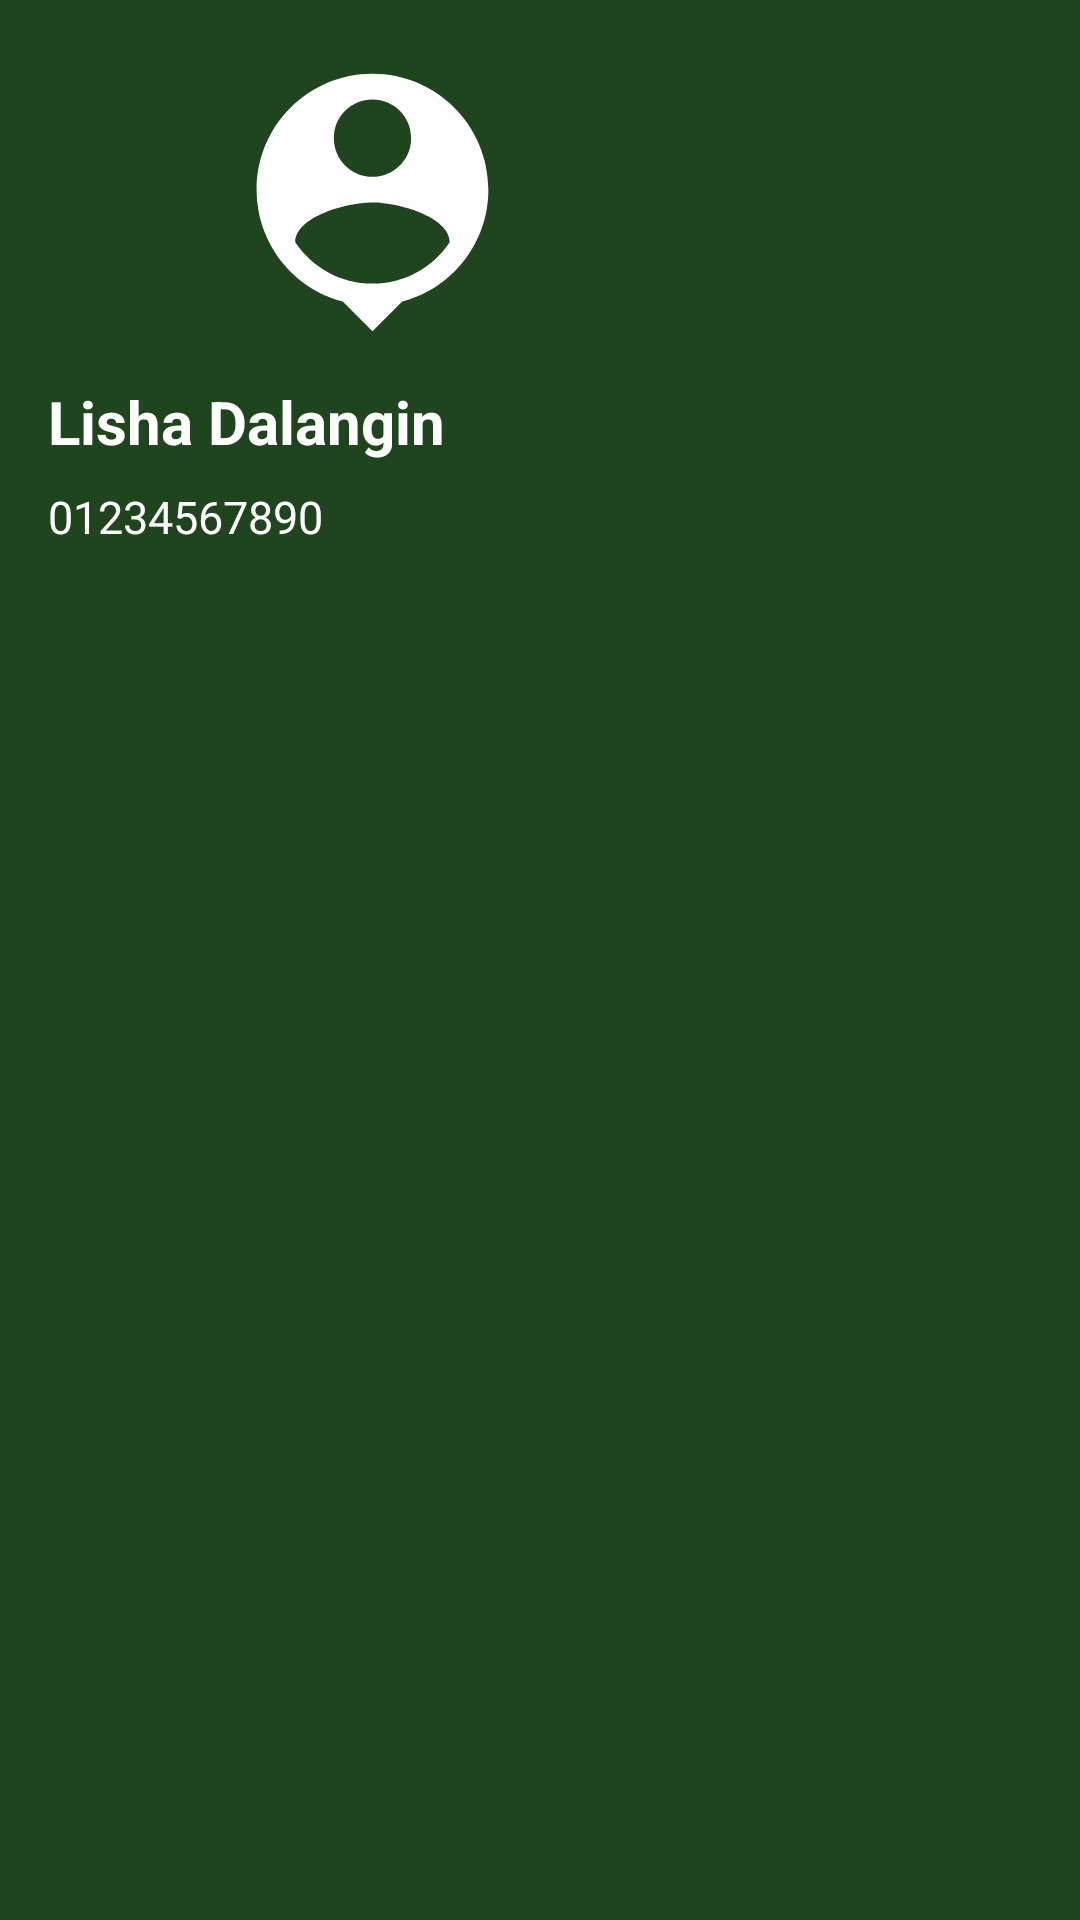

Icons on this 1080x1920 Android screen, each with the point to tap as (x,y):
person pin: (372,202)
